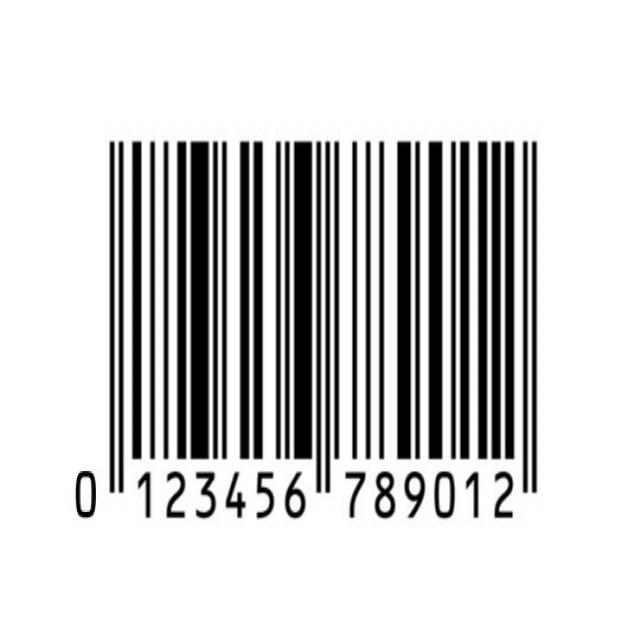Barkod: (98, 119, 553, 526)
